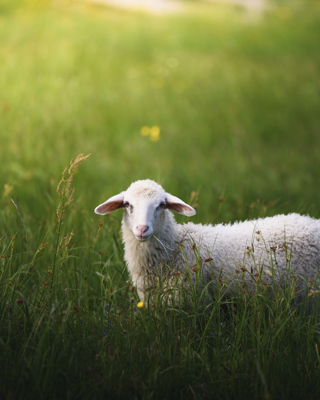koyun: (93, 176, 320, 320)
